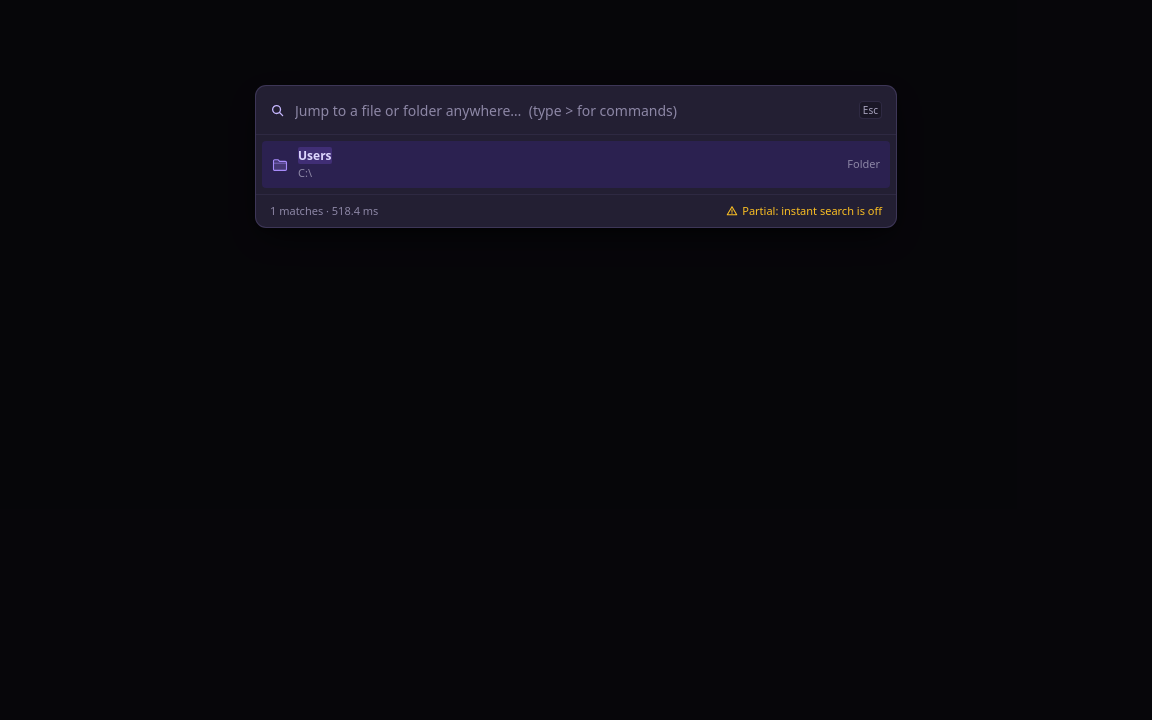
Test: command palette file search › never shows a match count beside an empty list when the search fails
The width and height of the screenshot is (1152, 720).
Later steps or results of the test are not shown.
Step 1. Type "users" into the field named "Palette query" → (572, 110), box left=295, top=86, right=849, bottom=134
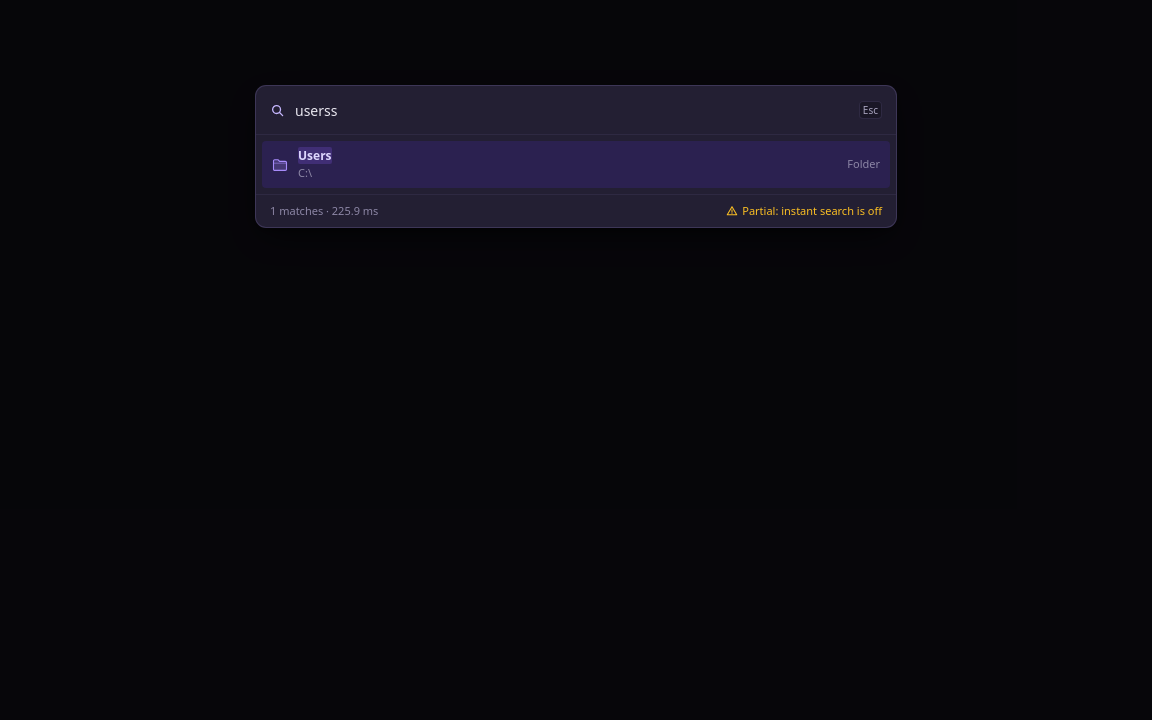
Expected: the dialog reads "Esc Users C:\\ Folder 1 matches · 225.9 ms Partial: instant search is off", left=256, top=86, right=896, bottom=227
